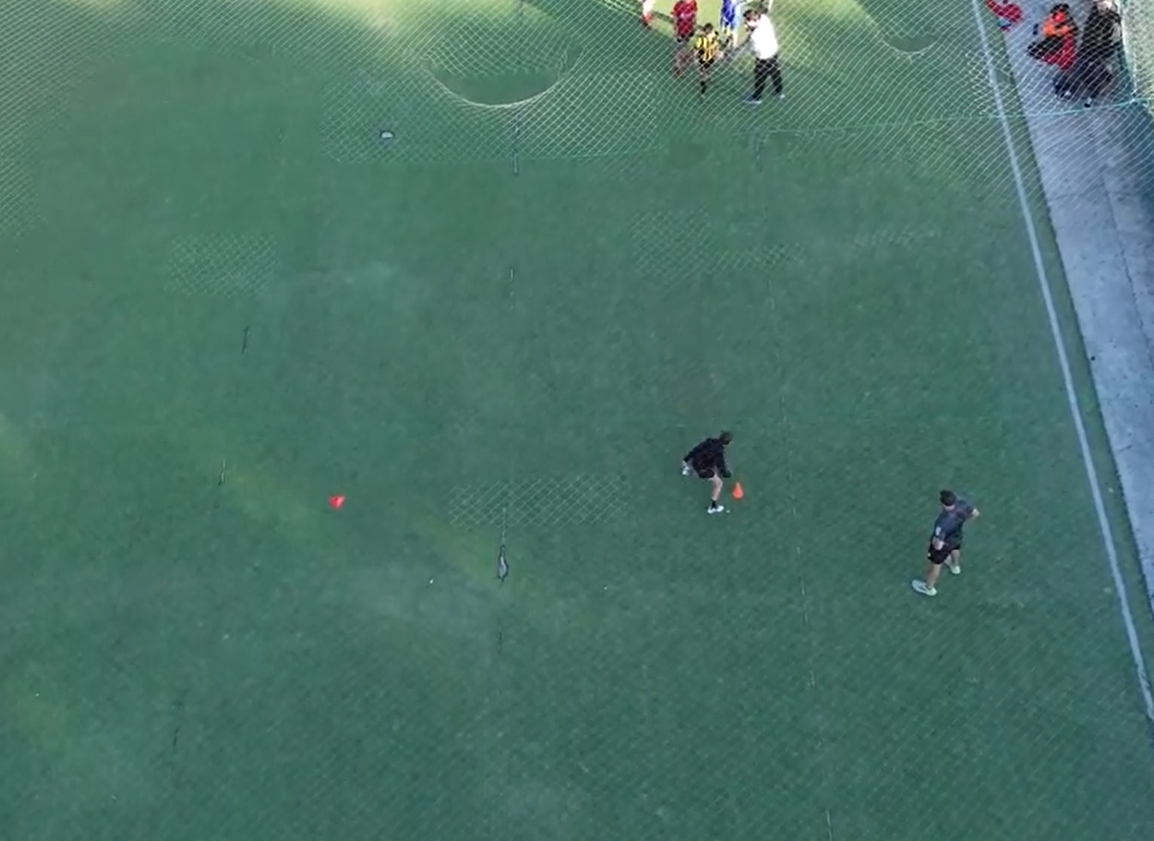cone: (718, 478, 755, 505), (324, 494, 357, 515)
